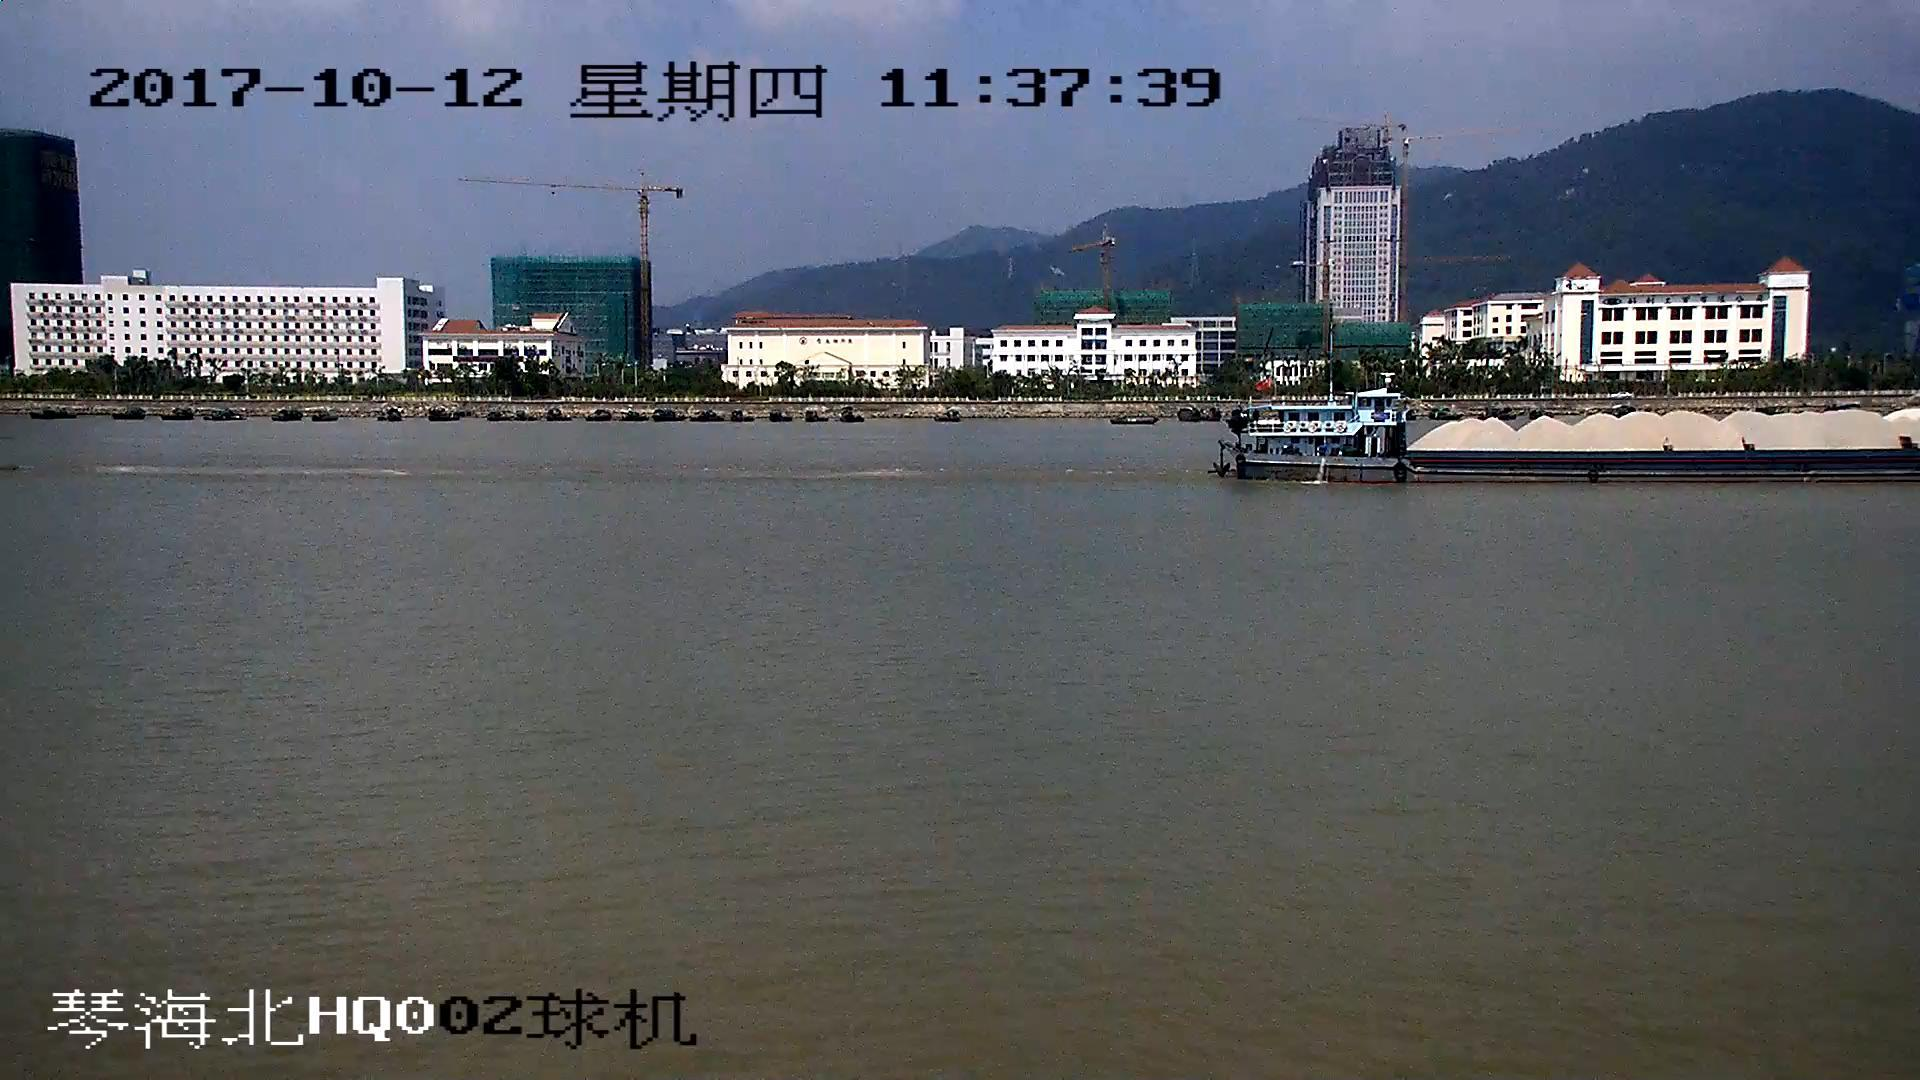Ship: (1229, 394, 1920, 487)
